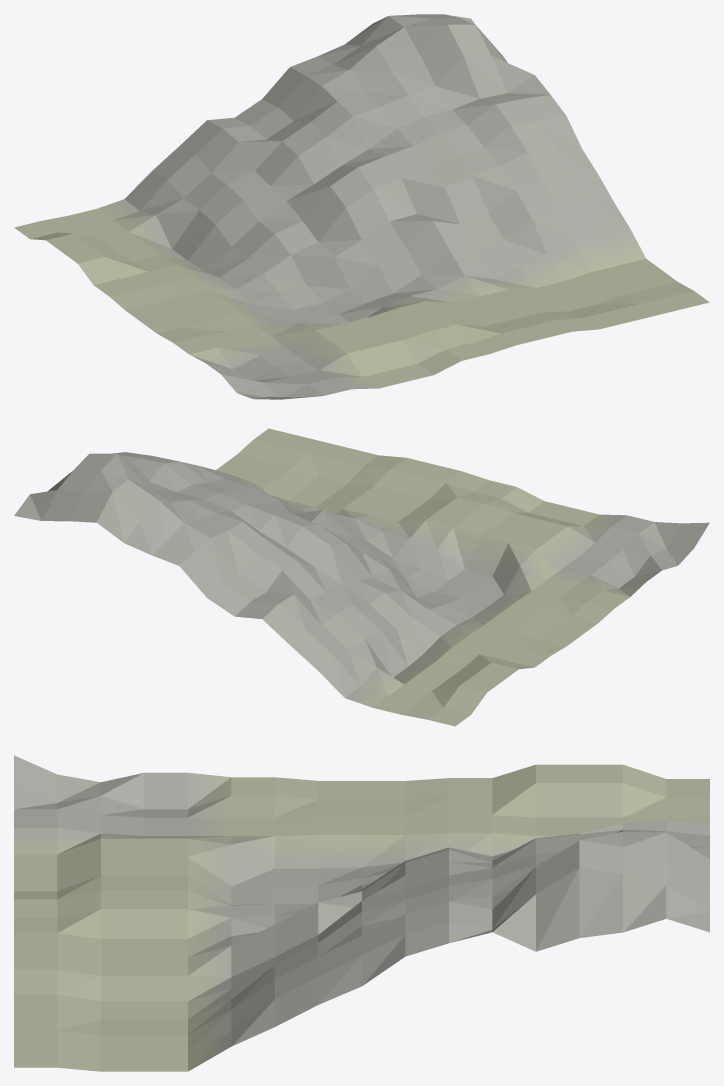
3 renders of one model, top to bottom at view 1: azimuth 30°, elevation 25°; view 2: azimuth 150°, elevation 25°; view 3: azimuth 270°, elevation 25°, orthographic. The views are drawn at different scales.
Bounding box in the file's own units: 32 × 10.88 × 32.
